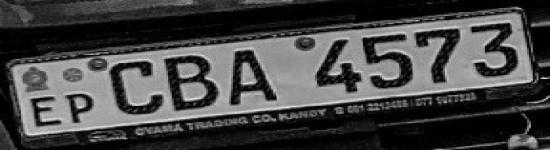3: (465, 22, 521, 80)
4: (314, 37, 363, 94)
5: (363, 32, 414, 91)
7: (413, 27, 463, 84)
A: (225, 47, 281, 106)
B: (165, 54, 223, 110)
C: (111, 60, 164, 112)
E: (30, 94, 64, 128)
P: (64, 92, 100, 124)
